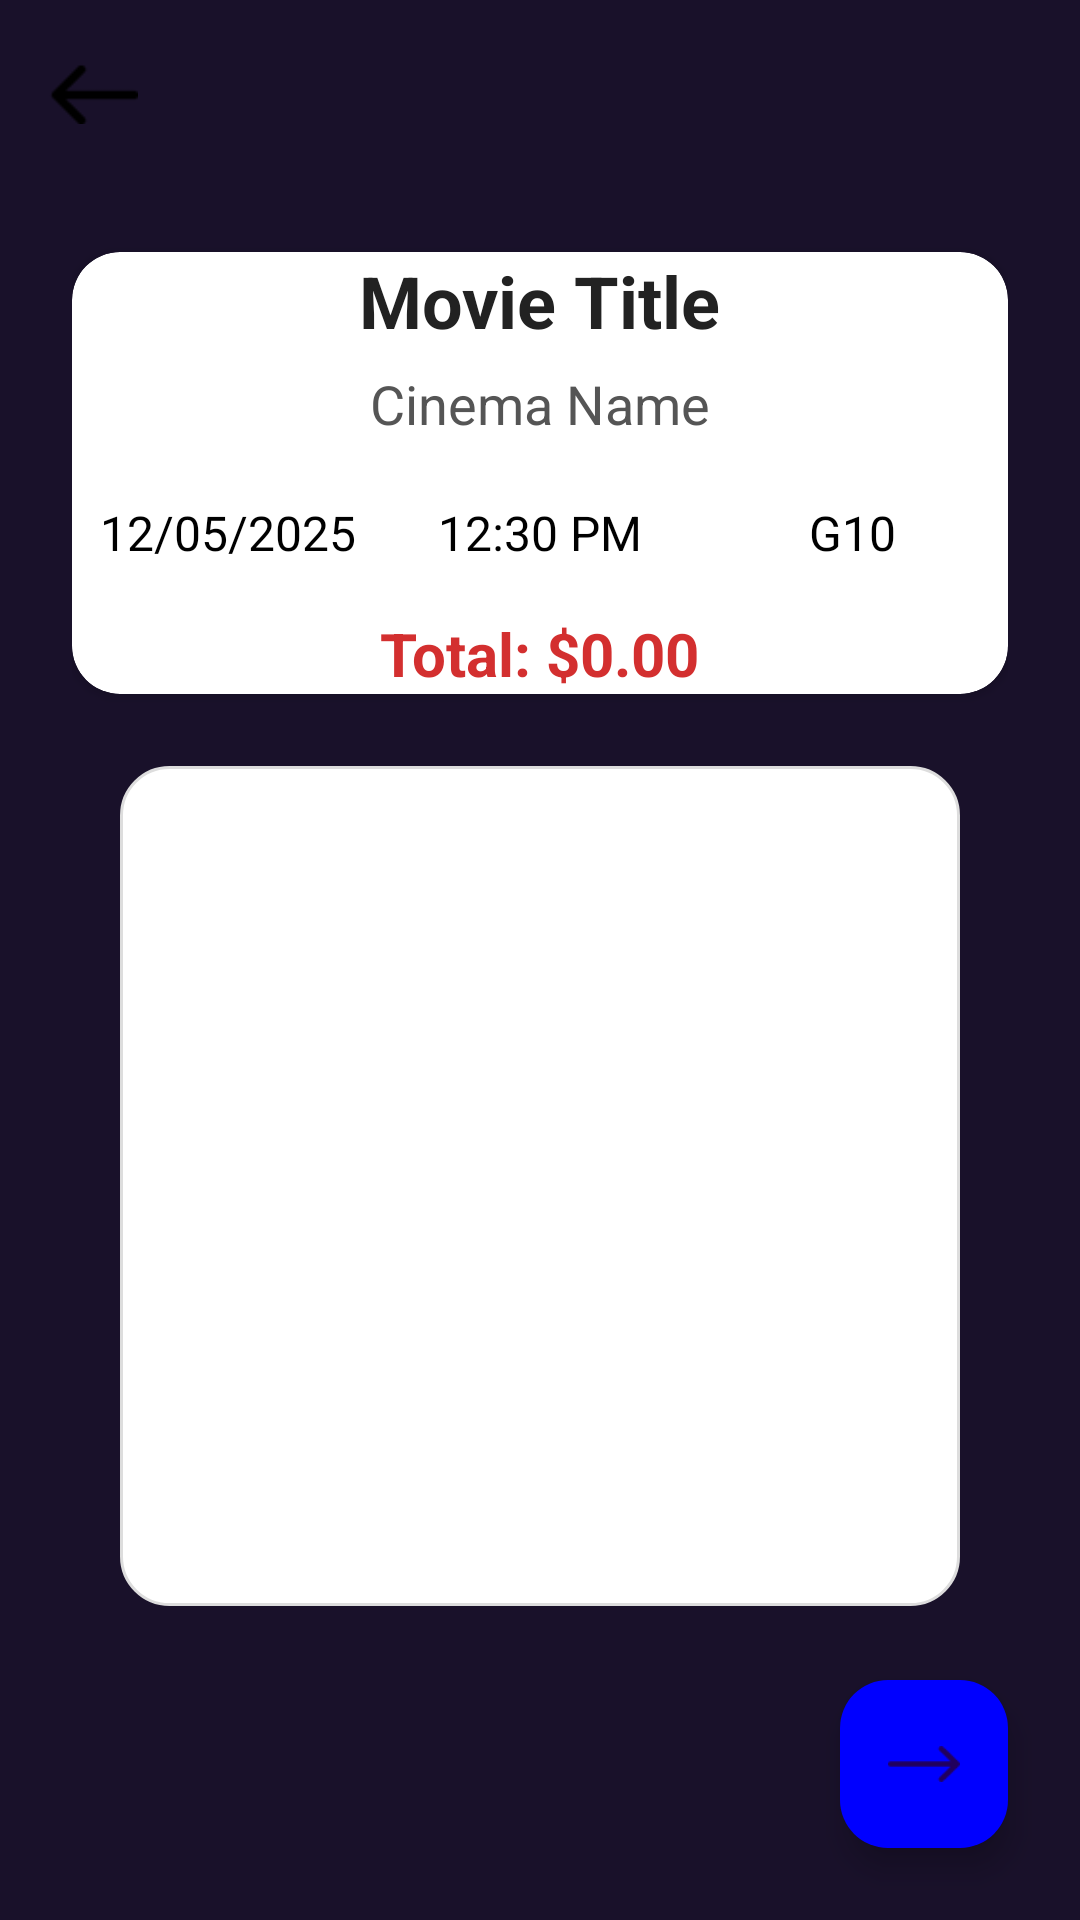

Screen size 1080px x 1920px. Icon name, then its box in pixels as bbox(x1, y1, x2, y2):
back: bbox(52, 66, 138, 124)
next: bbox(840, 1680, 1008, 1848)
